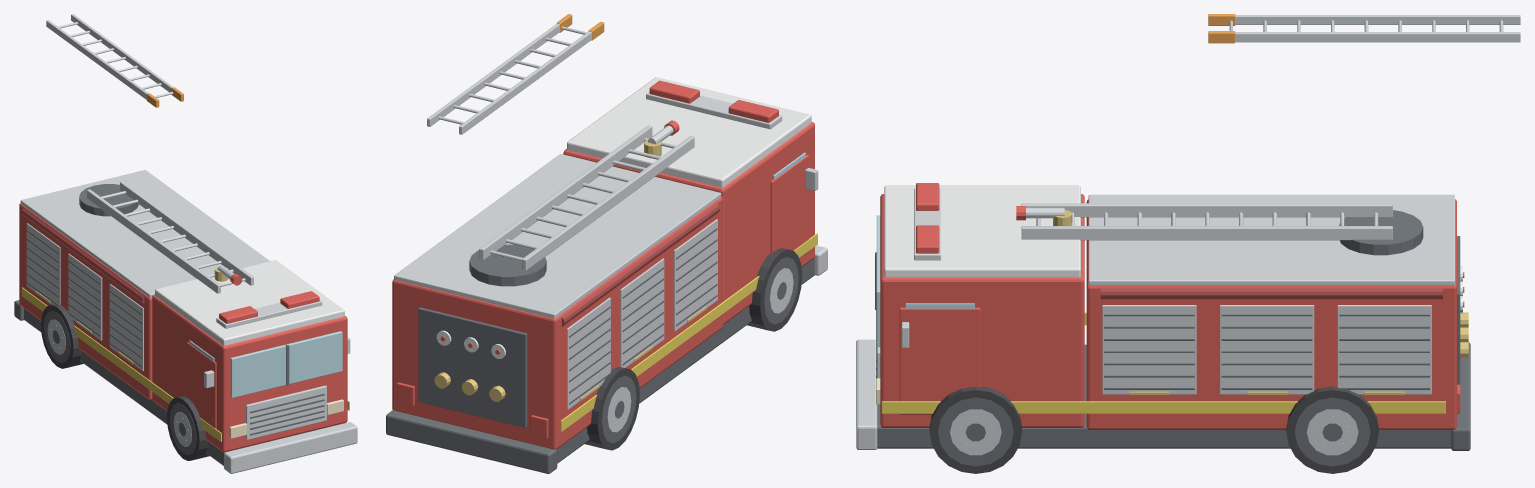
The model's file is SM_FireEngine.fbx.
3 renders of one model, left to right at view 1: azimuth 30°, elevation 25°; view 2: azimuth 150°, elevation 25°; view 3: azimuth 270°, elevation 25°, orthographic. The views are drawn at different scales.
Visible parts, largest first — view 1: FireEngine_Body, Ladder_Base_Pivot, Ladder_Extend_Pivot, Door_FL_Hinge, Wheel_FL_Pivot, Wheel_RL_Pivot, Lightbar_Frame, Beacon_Red_R_Lens, Beacon_Red_L_Lens; view 2: FireEngine_Body, Ladder_Base_Pivot, Ladder_Extend_Pivot, Door_FL_Hinge, Wheel_FL_Pivot, Wheel_RL_Pivot, Lightbar_Frame, Beacon_Red_R_Lens, Beacon_Red_L_Lens, RoofMonitor_Pivot; view 3: FireEngine_Body, Ladder_Base_Pivot, Door_FR_Hinge, Ladder_Extend_Pivot, Wheel_FR_Pivot, Wheel_RR_Pivot, Lightbar_Frame, RoofMonitor_Pivot, Beacon_Red_R_Lens.
Boxes of the visible parts, left/top/right/bottom form: FireEngine_Body: left=14, top=170, right=357, bottom=473; Ladder_Base_Pivot: left=79, top=181, right=253, bottom=293; Ladder_Extend_Pivot: left=46, top=14, right=183, bottom=107; Door_FL_Hinge: left=187, top=340, right=216, bottom=437; Wheel_FL_Pivot: left=167, top=396, right=209, bottom=460; Wheel_RL_Pivot: left=41, top=304, right=83, bottom=368; Lightbar_Frame: left=216, top=300, right=322, bottom=328; Beacon_Red_R_Lens: left=280, top=291, right=319, bottom=308; Beacon_Red_L_Lens: left=219, top=306, right=257, bottom=323; FireEngine_Body: left=386, top=77, right=827, bottom=473; Ladder_Base_Pivot: left=469, top=125, right=694, bottom=286; Ladder_Extend_Pivot: left=427, top=14, right=604, bottom=134; Door_FL_Hinge: left=770, top=152, right=818, bottom=258; Wheel_FL_Pivot: left=747, top=248, right=802, bottom=331; Wheel_RL_Pivot: left=585, top=367, right=639, bottom=450; Lightbar_Frame: left=646, top=92, right=782, bottom=129; Beacon_Red_R_Lens: left=649, top=80, right=699, bottom=103; Beacon_Red_L_Lens: left=728, top=100, right=778, bottom=122; RoofMonitor_Pivot: left=644, top=120, right=679, bottom=158; FireEngine_Body: left=856, top=185, right=1470, bottom=450; Ladder_Base_Pivot: left=1021, top=203, right=1423, bottom=255; Door_FR_Hinge: left=899, top=303, right=980, bottom=414; Ladder_Extend_Pivot: left=1208, top=14, right=1520, bottom=43; Wheel_FR_Pivot: left=929, top=386, right=1021, bottom=473; Wheel_RR_Pivot: left=1286, top=386, right=1378, bottom=473; Lightbar_Frame: left=914, top=188, right=940, bottom=260; RoofMonitor_Pivot: left=1016, top=206, right=1072, bottom=225; Beacon_Red_R_Lens: left=916, top=225, right=939, bottom=253.
Bounding box in the file's own units: 244 × 689 × 461.
